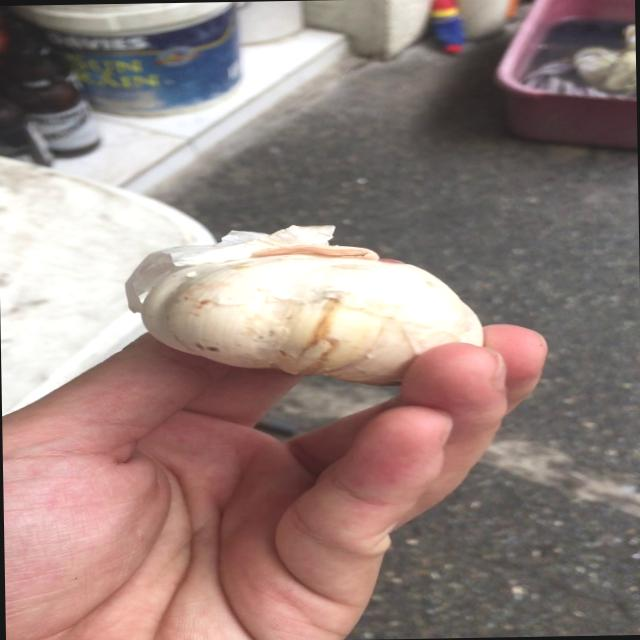bawang: (130, 218, 500, 394)
